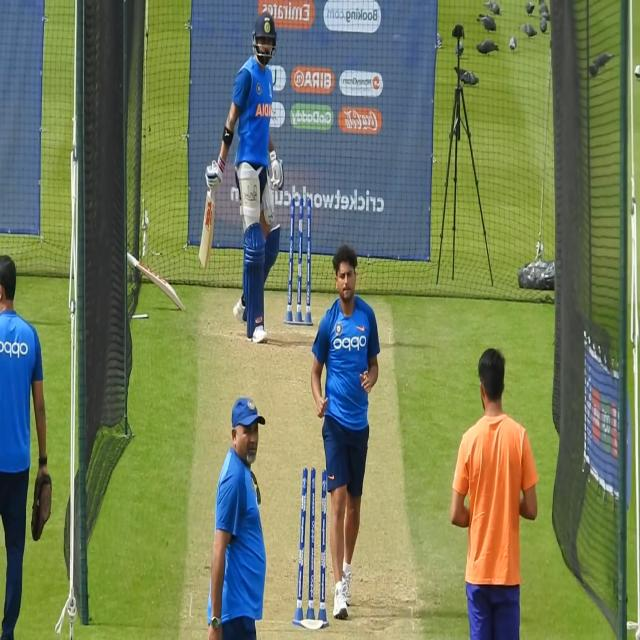stump: (295, 466, 329, 629), (286, 194, 312, 329)
